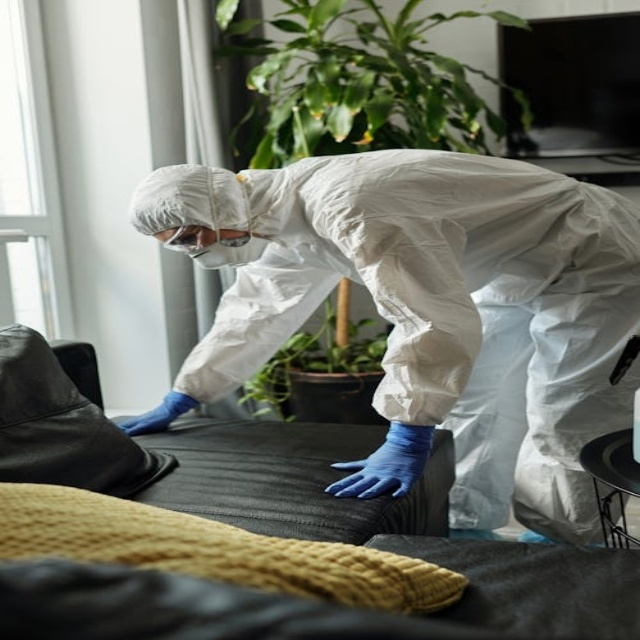Gafas: (154, 220, 206, 257)
Guantes: (319, 421, 439, 500), (106, 387, 204, 436)
Mascara: (187, 231, 273, 270)
